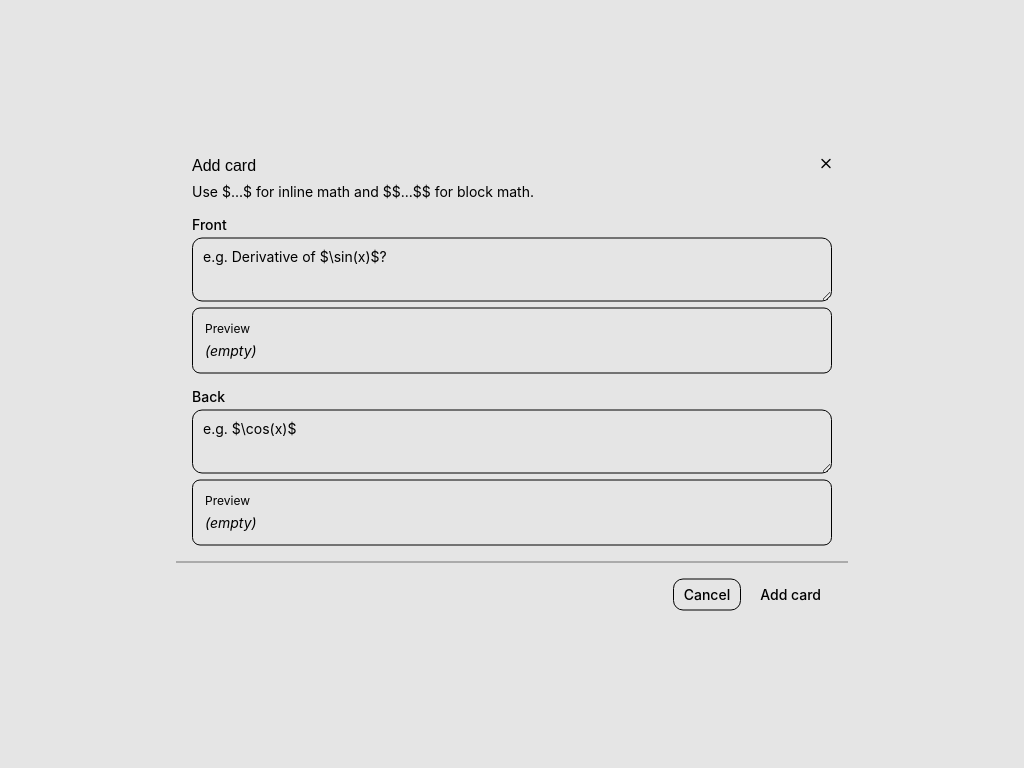
Test: CardEditorDialog › shows a live KaTeX preview of the front field
The width and height of the screenshot is (1024, 768).
Type "$x^2$" into the text box labelled "Front".
click(512, 270); type("$x^2$")  # box [192,238,832,302]
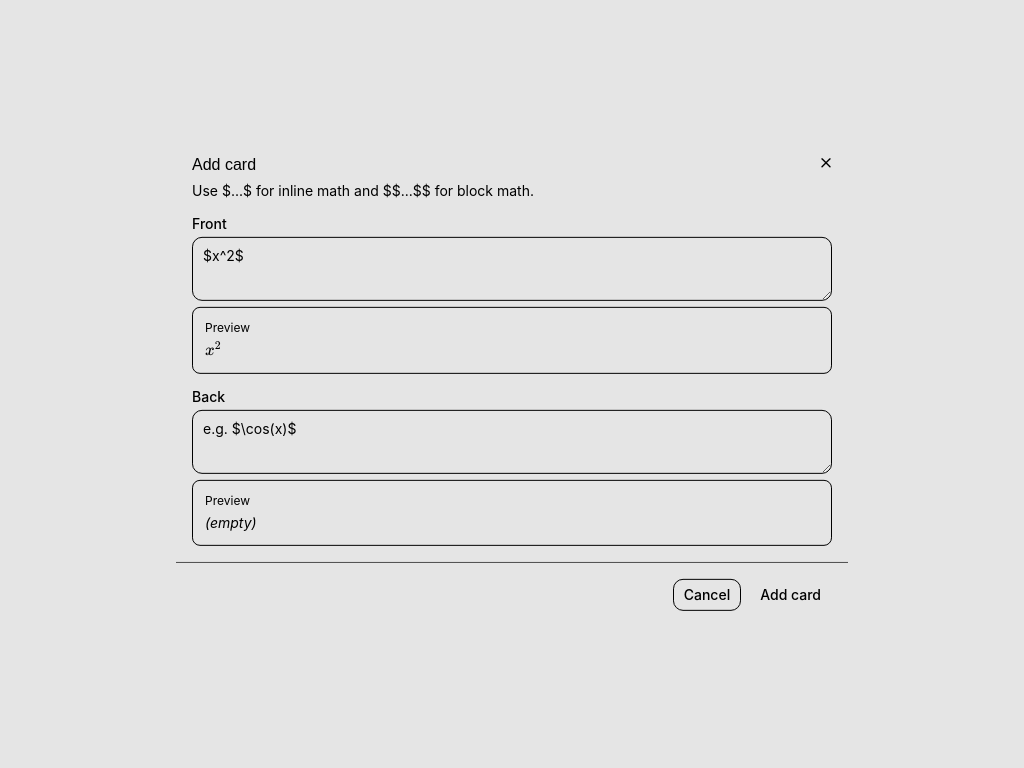
Now the element with class "katex" is shown, box [205,340,222,360]
